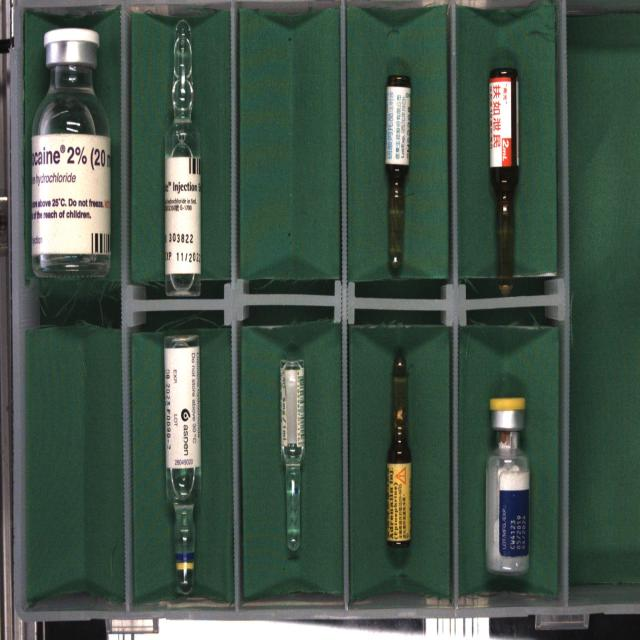Vials: (31, 28, 111, 277), (486, 397, 529, 574)
